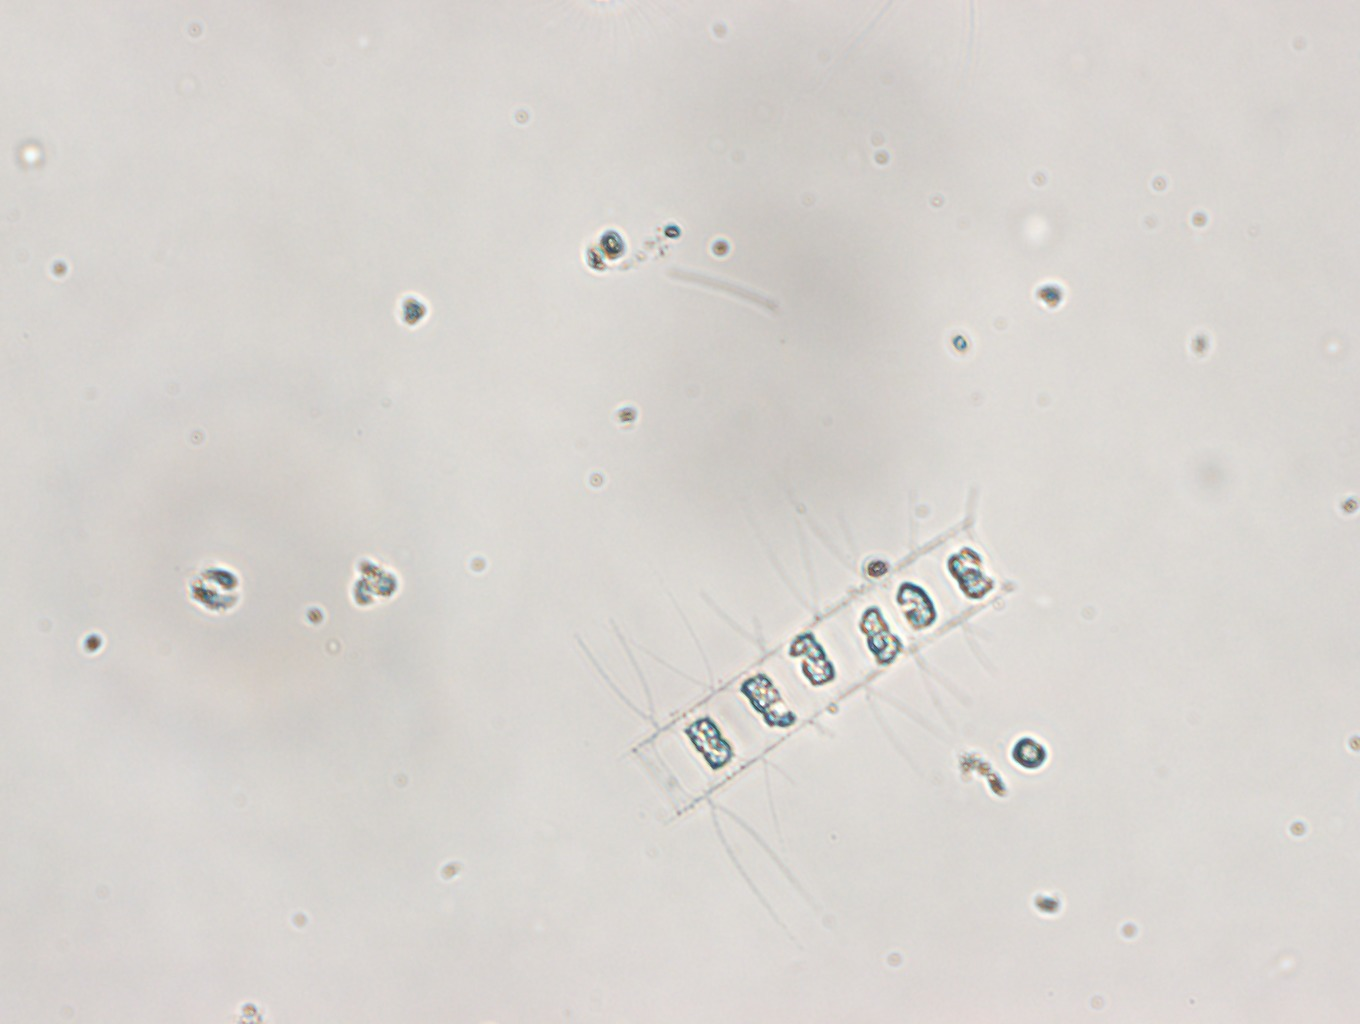chaetoceros: (579, 478, 1004, 930)
